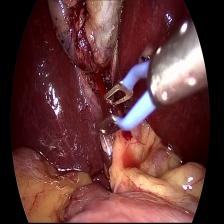Bipolar: (94, 42, 166, 140)
